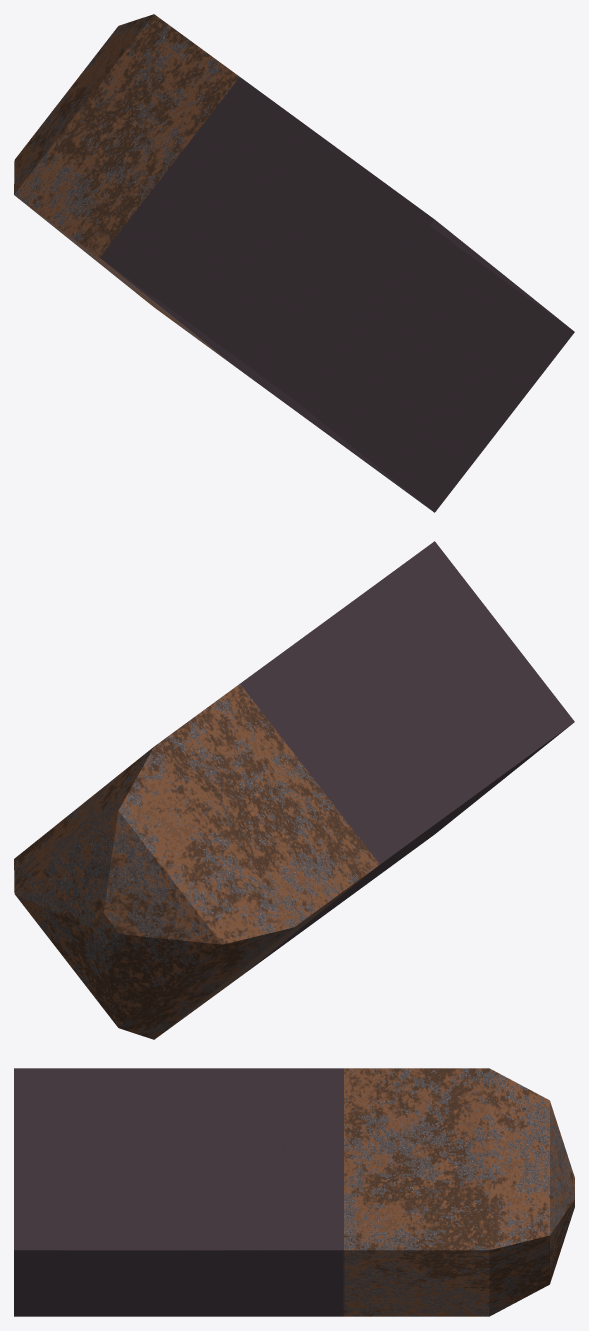
File: Generator Crank Handle.fbx
The picture shows the model from 3 angles, top to bottom: view 1: azimuth 30°, elevation 25°; view 2: azimuth 150°, elevation 25°; view 3: azimuth 270°, elevation 25°; orthographic projection. The views are drawn at different scales.
Visible parts, largest first — view 1: Baked CrankHandle; view 2: Baked CrankHandle; view 3: Baked CrankHandle.
Boxes of the visible parts, x1=… form: Baked CrankHandle: x1=14, y1=14, x2=574, y2=512; Baked CrankHandle: x1=14, y1=541, x2=574, y2=1039; Baked CrankHandle: x1=14, y1=1068, x2=574, y2=1316.
Bounding box in the file's own units: 4.34 × 4.34 × 8.88.
Materials: 1 (1 with a texture image).
